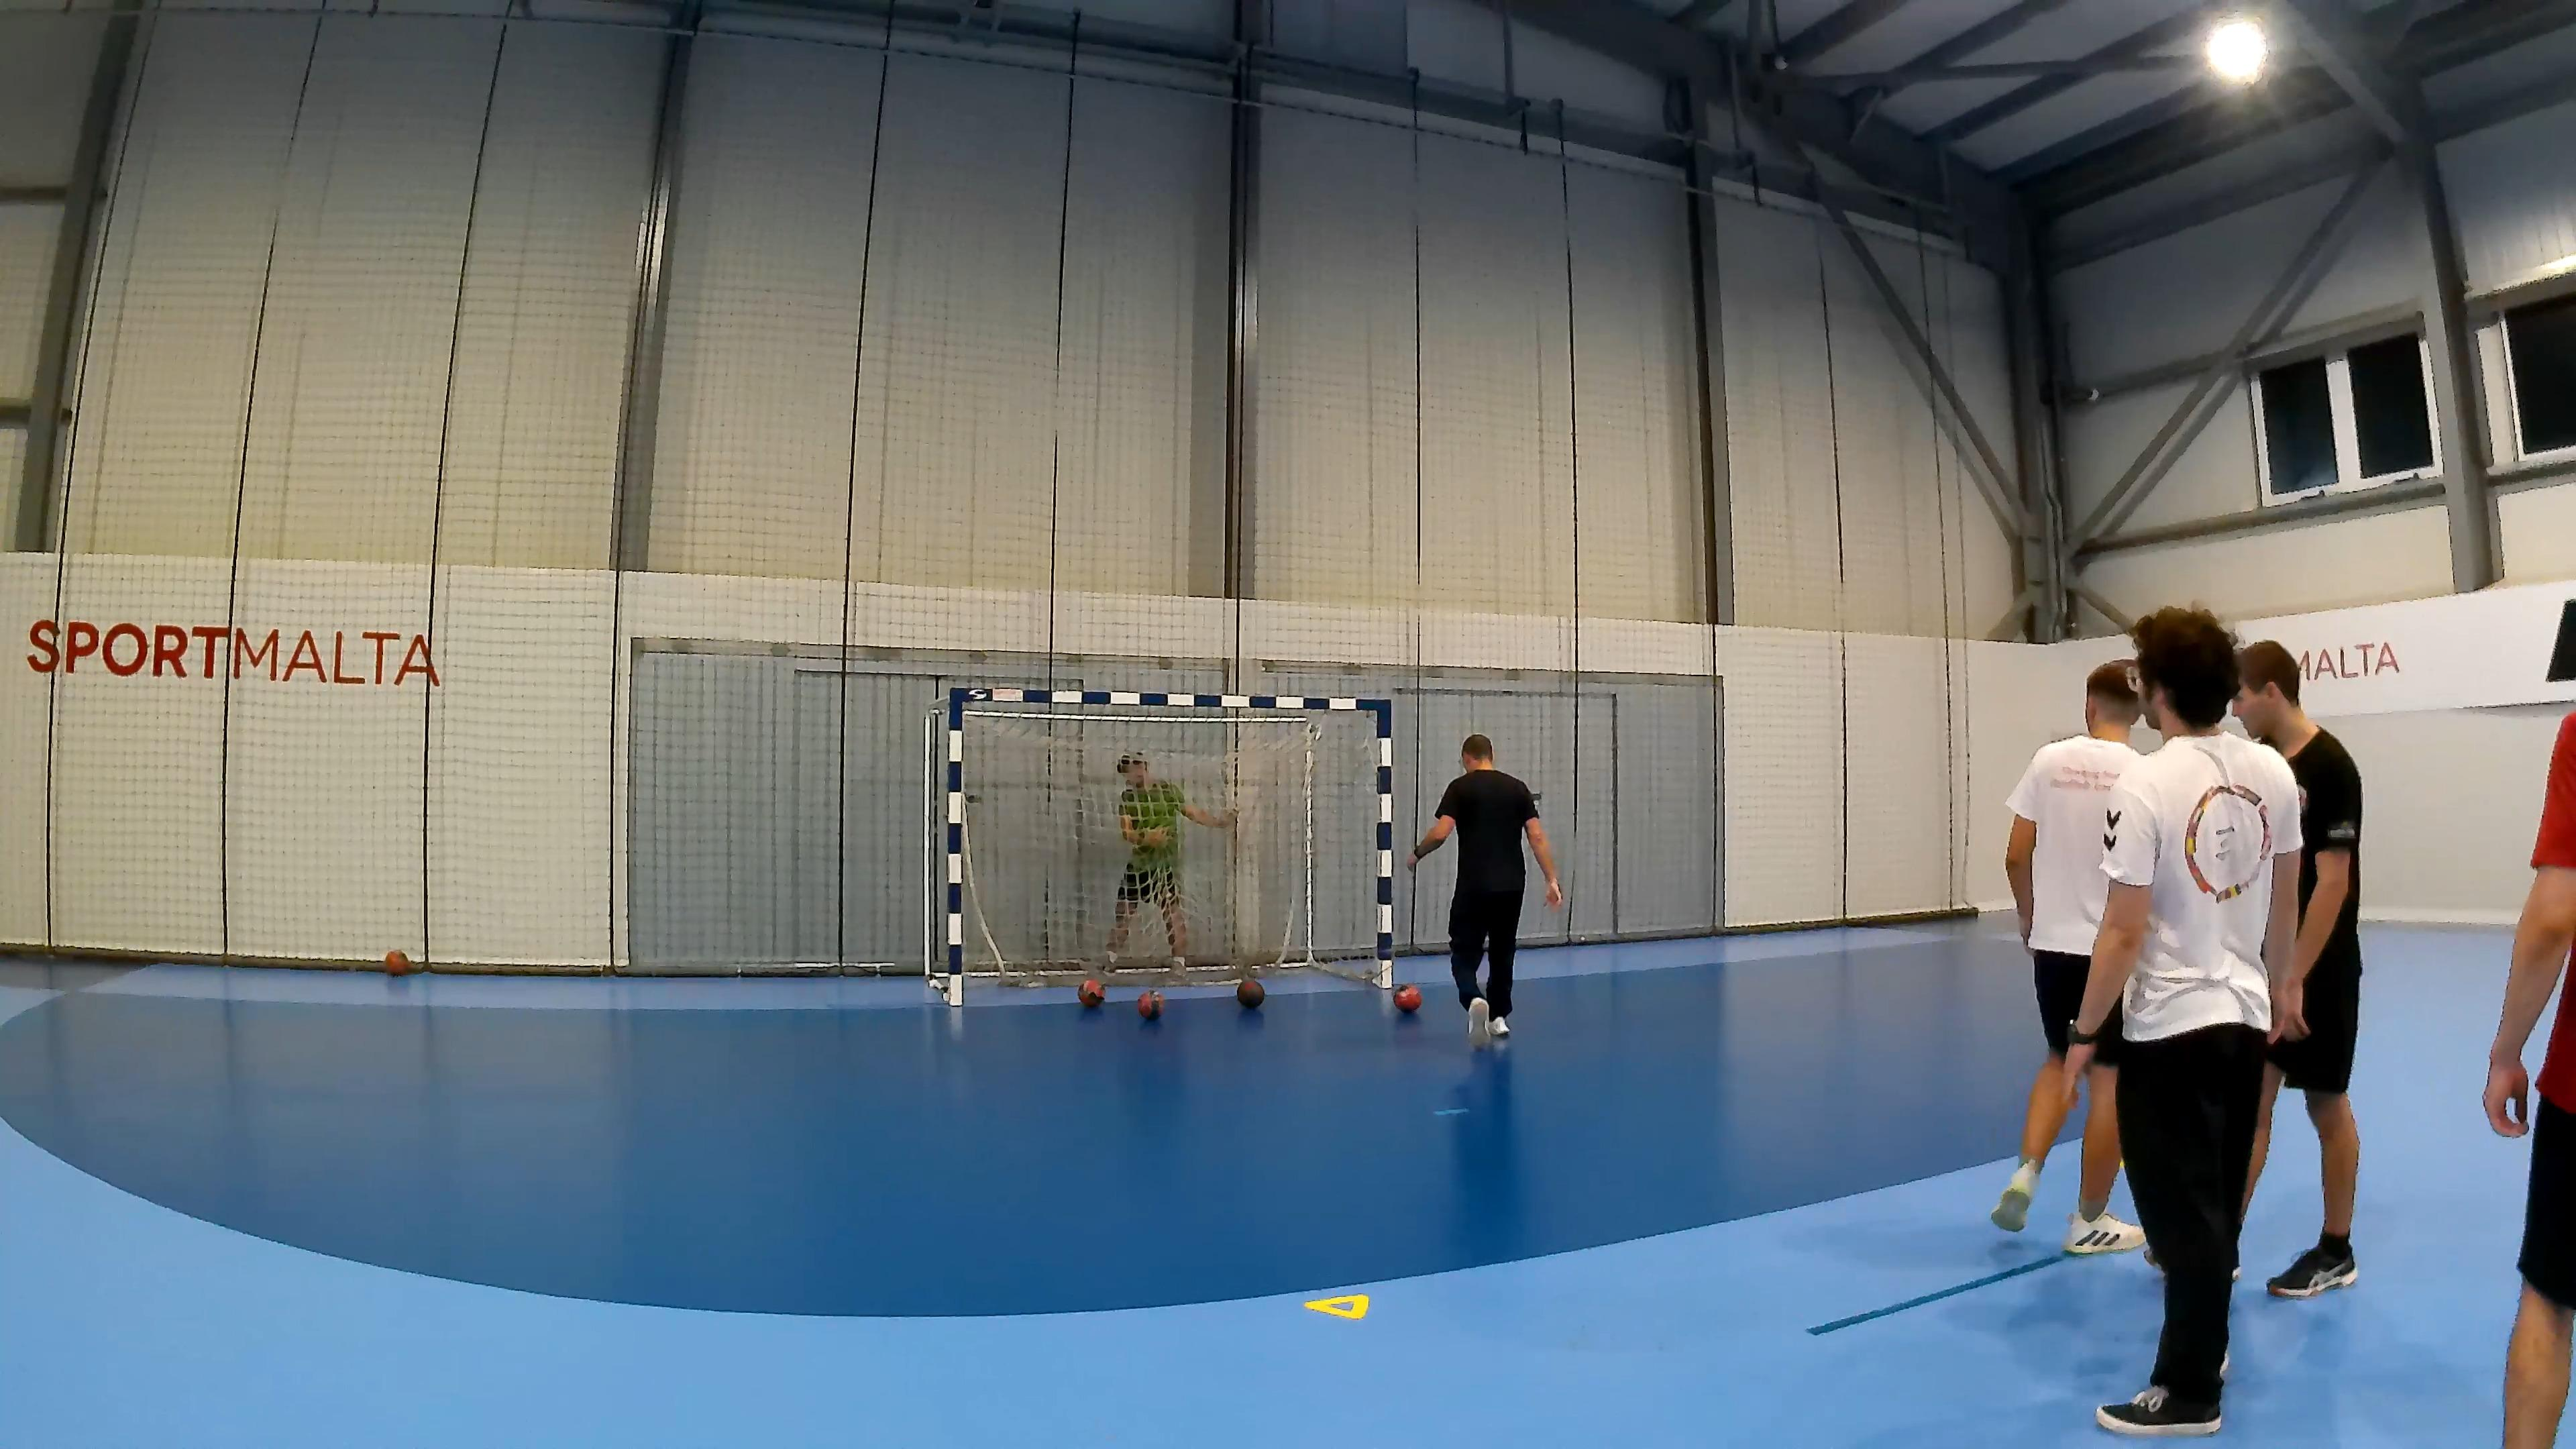handball: (1235, 977, 1263, 1008), (1136, 989, 1162, 1019), (1394, 982, 1421, 1010), (1077, 978, 1104, 1007)
